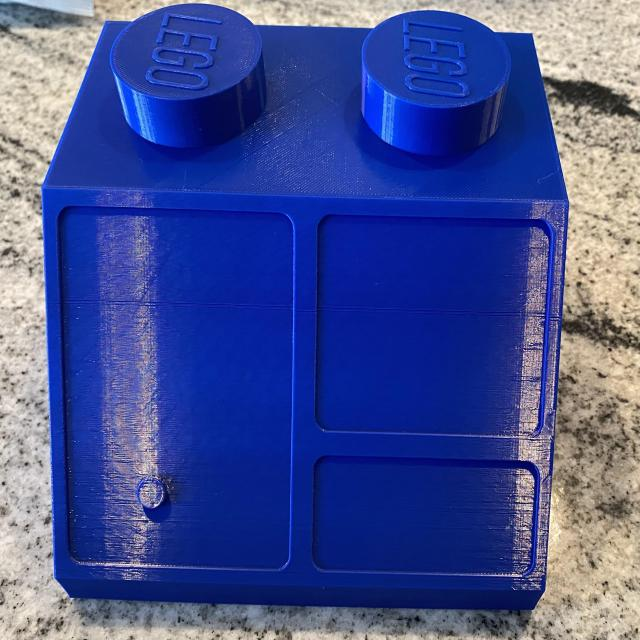Without deffect: (31, 8, 573, 613)
